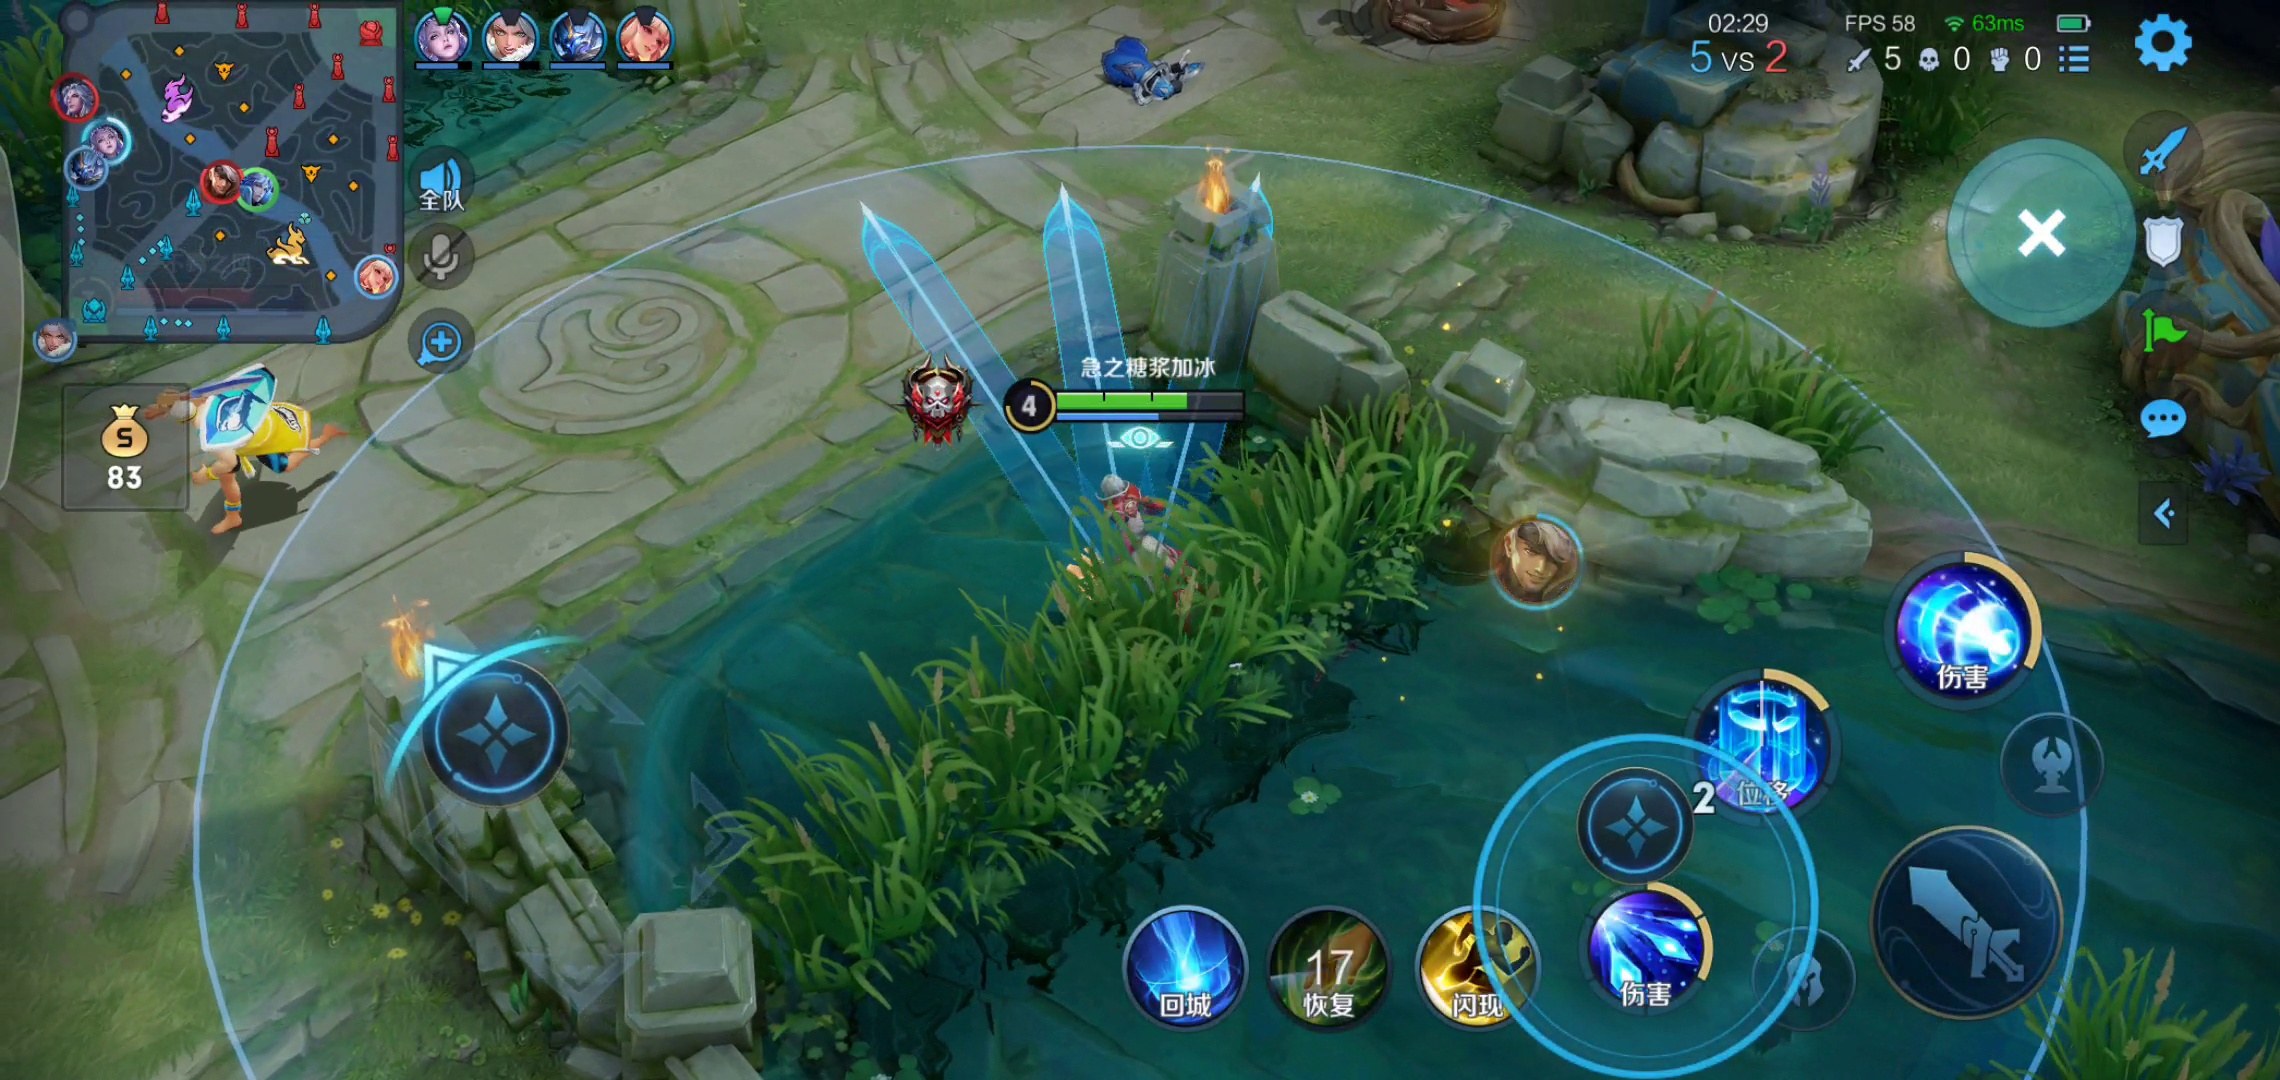grass: (633, 363, 1453, 1007), (1597, 288, 1889, 478), (1866, 12, 2015, 161), (2044, 965, 2233, 1080), (1, 12, 95, 222)
hero: (131, 376, 329, 520), (1076, 481, 1219, 628)
soldier: (1089, 28, 1213, 116)
tower: (1335, 1, 1528, 70)
